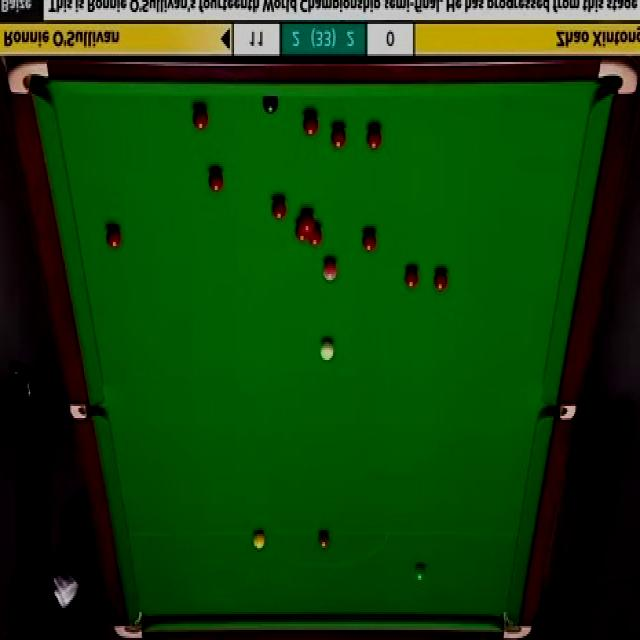pocket: (598, 58, 638, 97), (6, 60, 49, 95), (111, 609, 142, 640), (501, 610, 530, 638), (68, 403, 107, 420), (541, 403, 575, 420)
